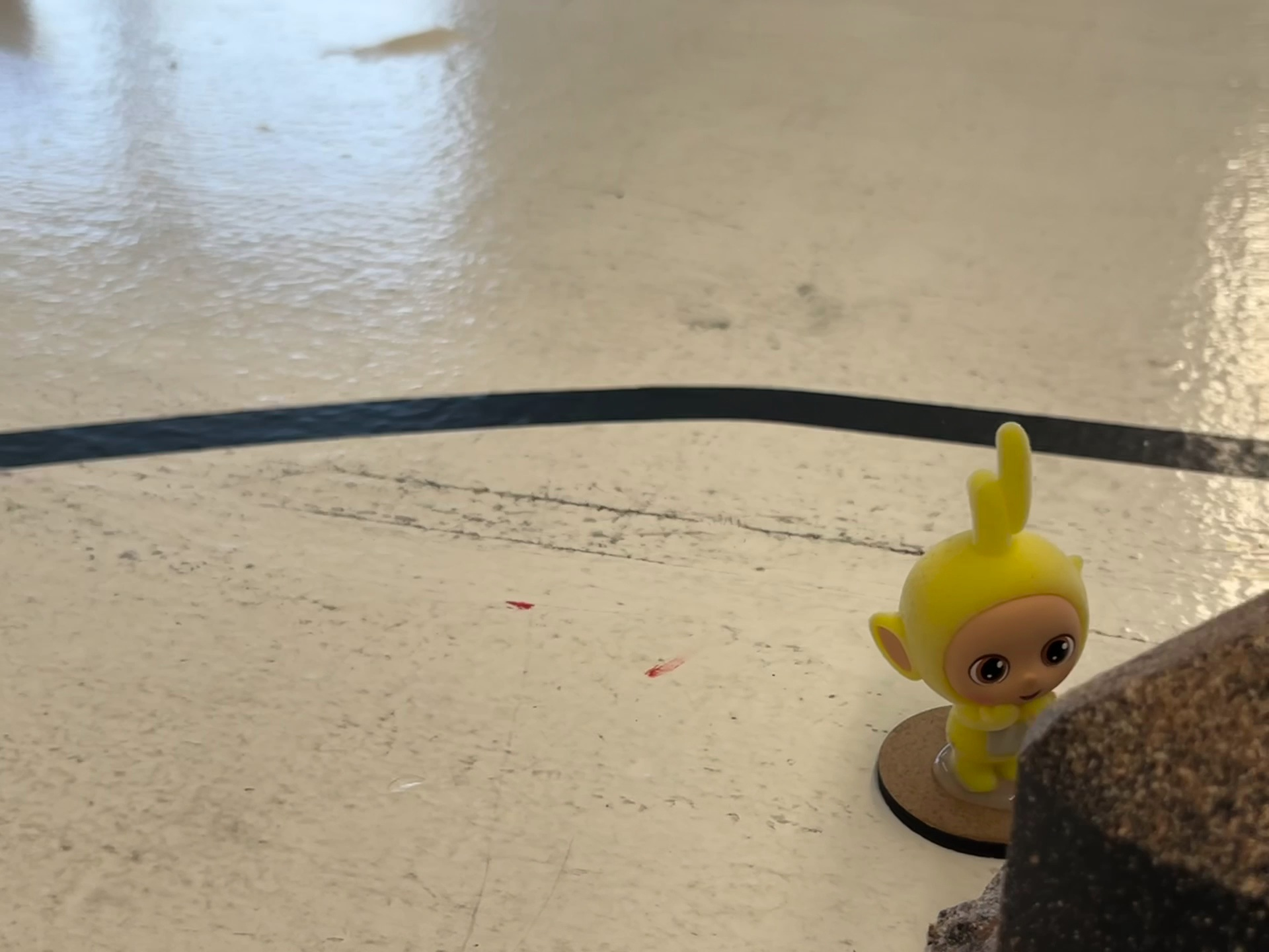teletubby: (869, 422, 1089, 795)
